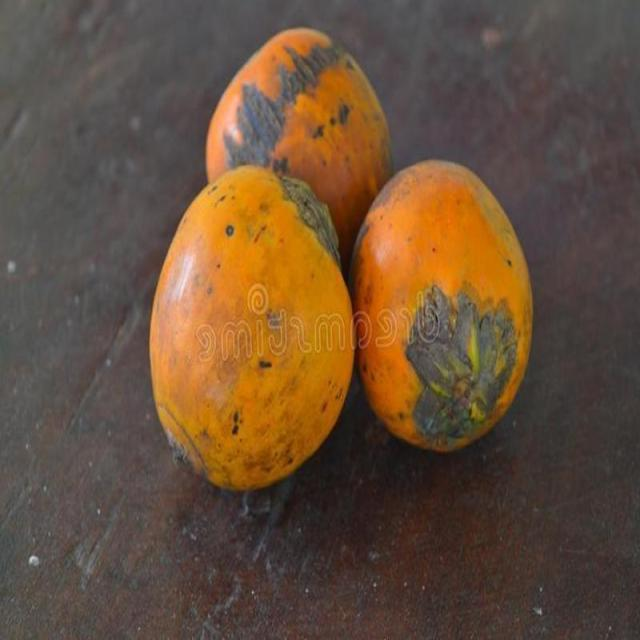good: (149, 167, 354, 493), (346, 160, 534, 457), (206, 29, 394, 285)
